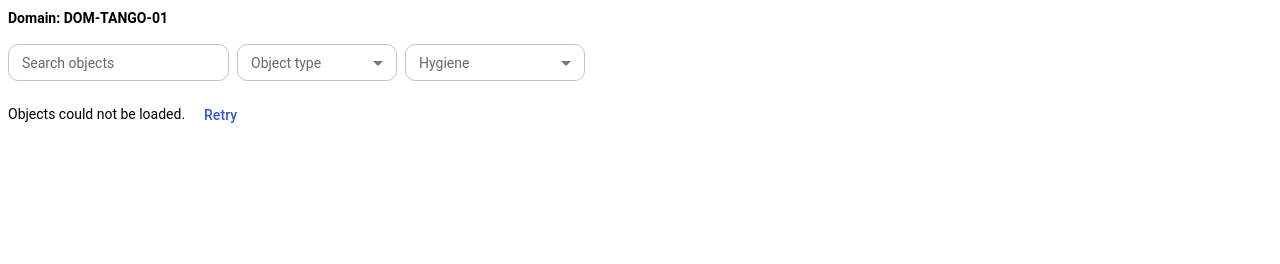
Scenario: reports sanitized load errors and retries without displaying response details
The image size is (1280, 264).
Expected: the message shows "Objects could not be loaded.", top-left (8, 106), bottom-right (185, 122)
Click the button "Retry".
click(221, 115)  # box top-left (189, 97), bottom-right (253, 134)
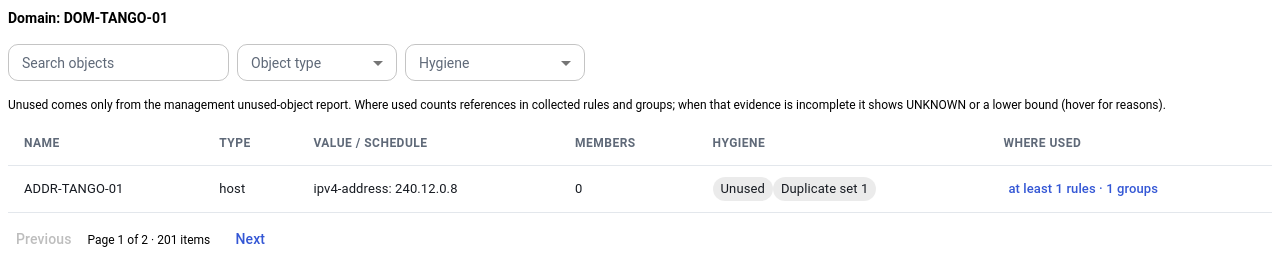
Expected: the table named "Policy objects" is shown, top-left (8, 121), bottom-right (1272, 213)
